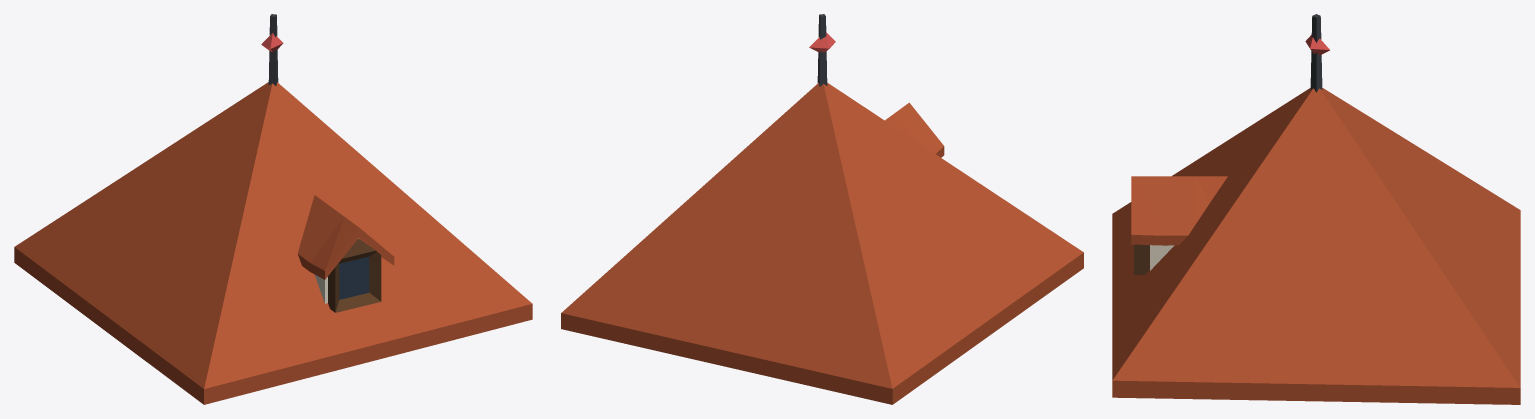
File: tower_top_b.glb
The picture shows the model from 3 angles, left to right: view 1: azimuth 30°, elevation 25°; view 2: azimuth 150°, elevation 25°; view 3: azimuth 270°, elevation 25°; orthographic projection. The views are drawn at different scales.
Visible parts, largest first — view 1: tower_top_b; view 2: tower_top_b; view 3: tower_top_b.
Part boxes in pixels (bbox=[...]): tower_top_b: bbox=[14, 14, 532, 404]; tower_top_b: bbox=[561, 14, 1083, 404]; tower_top_b: bbox=[1112, 14, 1520, 404].
Bounding box in the file's own units: 0.76 × 0.6224 × 0.76.
